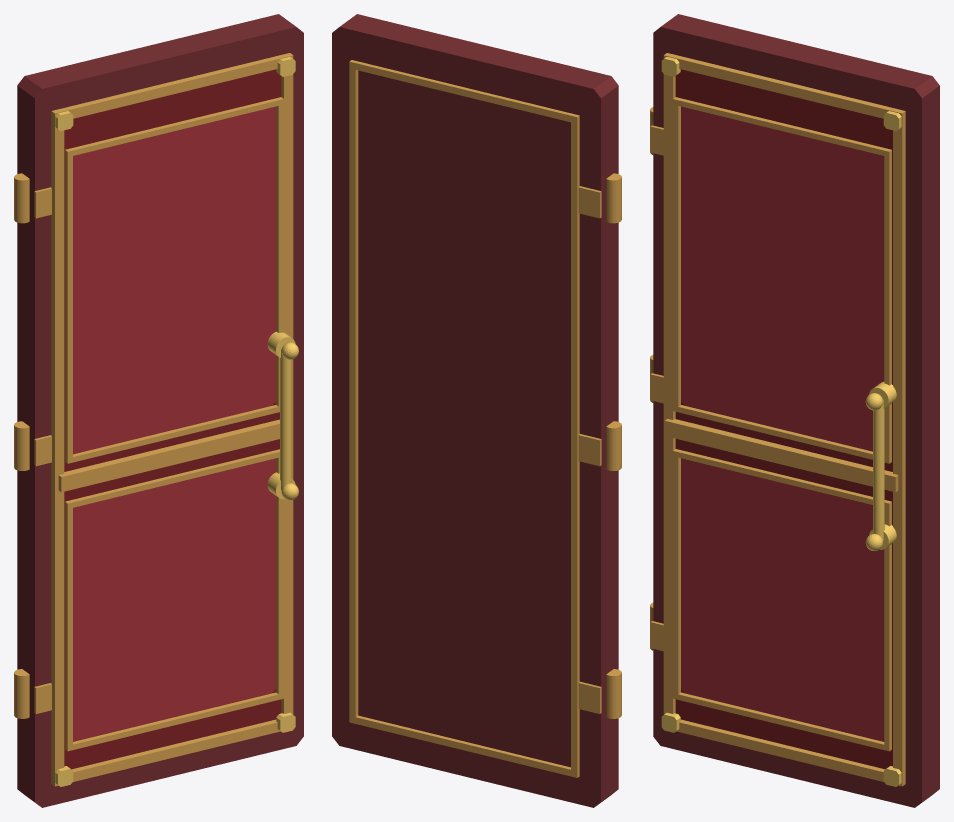
File: vip_room_left_door.glb
3 views of the same model, side by side, from view 1: azimuth 30°, elevation 25°; view 2: azimuth 150°, elevation 25°; view 3: azimuth 330°, elevation 25° (orthographic).
Visible parts, largest first — view 1: Upper_Red_Panel, Lower_Red_Panel, Door_Slab, Burgundy_Face_Field, Outer_Gold_Trim_Left, Outer_Gold_Trim_Right, Center_Gold_Rail, Outer_Gold_Trim_Top, Outer_Gold_Trim_Bottom, Upper_Panel_Gold_Trim_Left, Upper_Panel_Gold_Trim_Right, Upper_Panel_Gold_Trim_Top (+9 smaller); view 2: Door_Slab, Back_Gold_Trim_Right, Back_Gold_Trim_Left, Back_Gold_Trim_Top, Back_Gold_Trim_Bottom, Hinge_Barrel_1, Hinge_Barrel_3, Hinge_Barrel_2, Hinge_Leaf_Back_3, Hinge_Leaf_Back_1, Hinge_Leaf_Back_2; view 3: Upper_Red_Panel, Lower_Red_Panel, Door_Slab, Burgundy_Face_Field, Outer_Gold_Trim_Right, Outer_Gold_Trim_Left, Center_Gold_Rail, Outer_Gold_Trim_Top, Outer_Gold_Trim_Bottom, Upper_Panel_Gold_Trim_Left, Upper_Panel_Gold_Trim_Right, Upper_Panel_Gold_Trim_Top (+6 smaller).
Part boxes in pixels (x1,y1,x2,y2): Upper_Red_Panel: (73, 107, 275, 453); Lower_Red_Panel: (73, 458, 275, 741); Door_Slab: (17, 14, 303, 807); Burgundy_Face_Field: (64, 69, 281, 769); Outer_Gold_Trim_Left: (51, 121, 64, 776); Outer_Gold_Trim_Right: (281, 74, 293, 714); Center_Gold_Rail: (58, 419, 292, 492); Outer_Gold_Trim_Top: (51, 53, 293, 122); Outer_Gold_Trim_Bottom: (51, 719, 280, 786); Upper_Panel_Gold_Trim_Left: (65, 155, 72, 458); Upper_Panel_Gold_Trim_Right: (276, 104, 283, 406); Upper_Panel_Gold_Trim_Top: (65, 97, 283, 157); Door_Slab: (332, 14, 618, 807); Back_Gold_Trim_Right: (349, 68, 358, 717); Back_Gold_Trim_Left: (571, 122, 579, 771); Back_Gold_Trim_Top: (349, 60, 579, 123); Back_Gold_Trim_Bottom: (349, 715, 579, 777); Hinge_Barrel_1: (606, 669, 621, 718); Hinge_Barrel_3: (606, 173, 621, 223); Hinge_Barrel_2: (606, 421, 621, 470); Hinge_Leaf_Back_3: (578, 186, 601, 218); Hinge_Leaf_Back_1: (578, 681, 601, 713); Hinge_Leaf_Back_2: (578, 434, 601, 466); Upper_Red_Panel: (681, 106, 884, 451); Lower_Red_Panel: (681, 458, 884, 741); Door_Slab: (653, 14, 939, 807); Burgundy_Face_Field: (675, 69, 892, 768); Outer_Gold_Trim_Right: (893, 121, 905, 776); Outer_Gold_Trim_Left: (663, 74, 675, 714); Center_Gold_Rail: (664, 419, 898, 492); Outer_Gold_Trim_Top: (663, 53, 905, 122); Outer_Gold_Trim_Bottom: (676, 719, 905, 786); Upper_Panel_Gold_Trim_Left: (673, 104, 680, 406); Upper_Panel_Gold_Trim_Right: (884, 155, 891, 458); Upper_Panel_Gold_Trim_Top: (673, 97, 891, 157).
Bounding box in the file's own units: 0.957 × 2.35 × 0.251.
